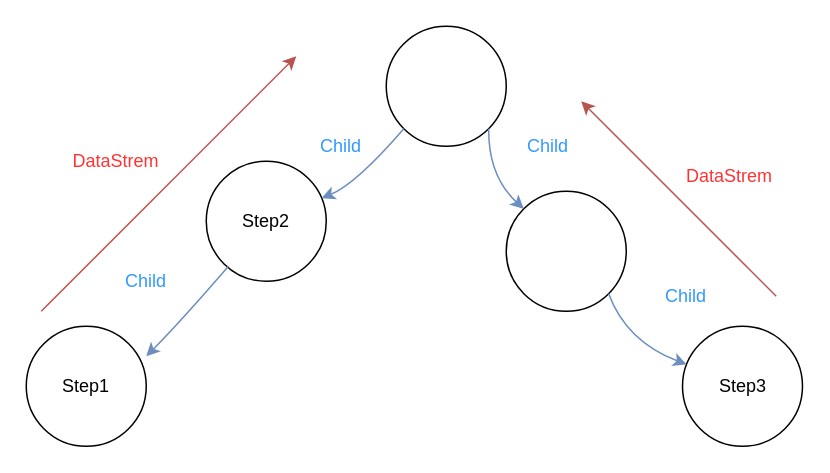
The diagram is 830 pixels wide and 473 high, and some of its shapes have lost their labels. The shapes that lost their labels are listed below. From the top down, each one's centre as x and y in pixels, then its label:
(x=445, y=85): New Step
(x=565, y=250): Step4
